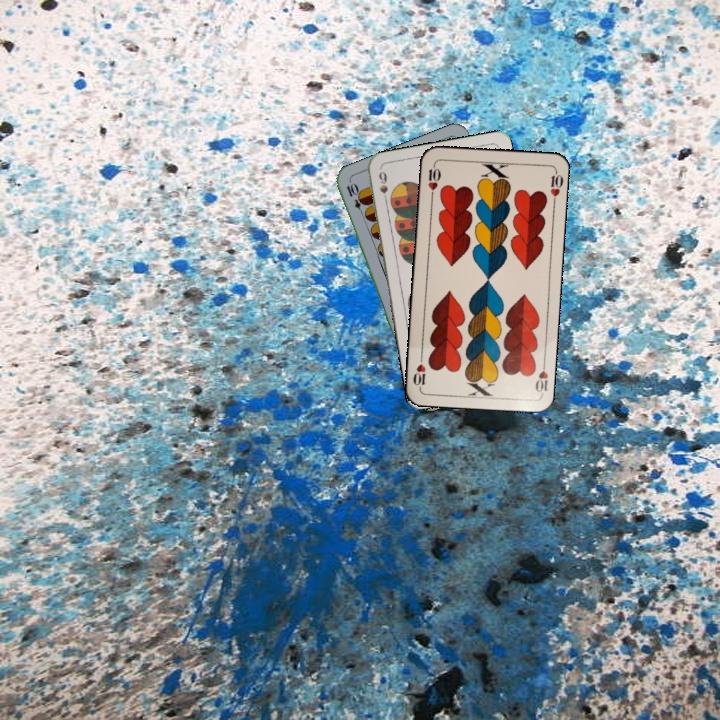E10: (342, 179, 368, 219)
H10: (424, 160, 443, 201), (531, 356, 550, 397)
S9: (375, 167, 390, 207)
